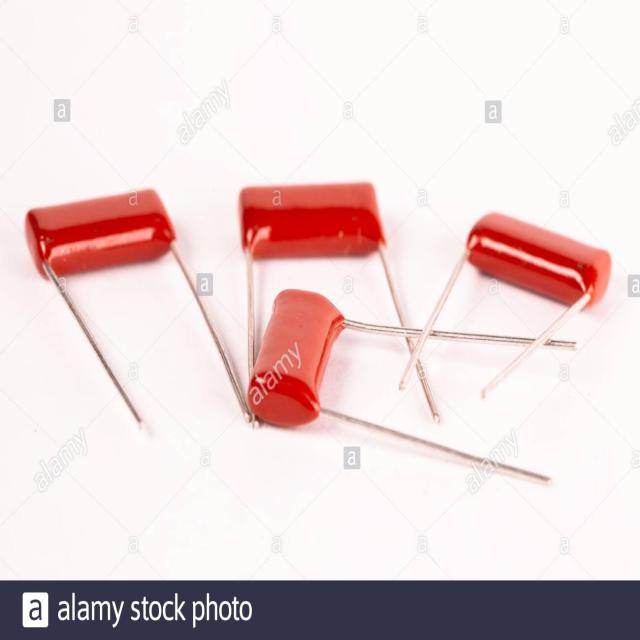capacitor: (254, 290, 575, 488), (28, 188, 250, 437), (240, 180, 441, 429), (403, 211, 612, 399)
